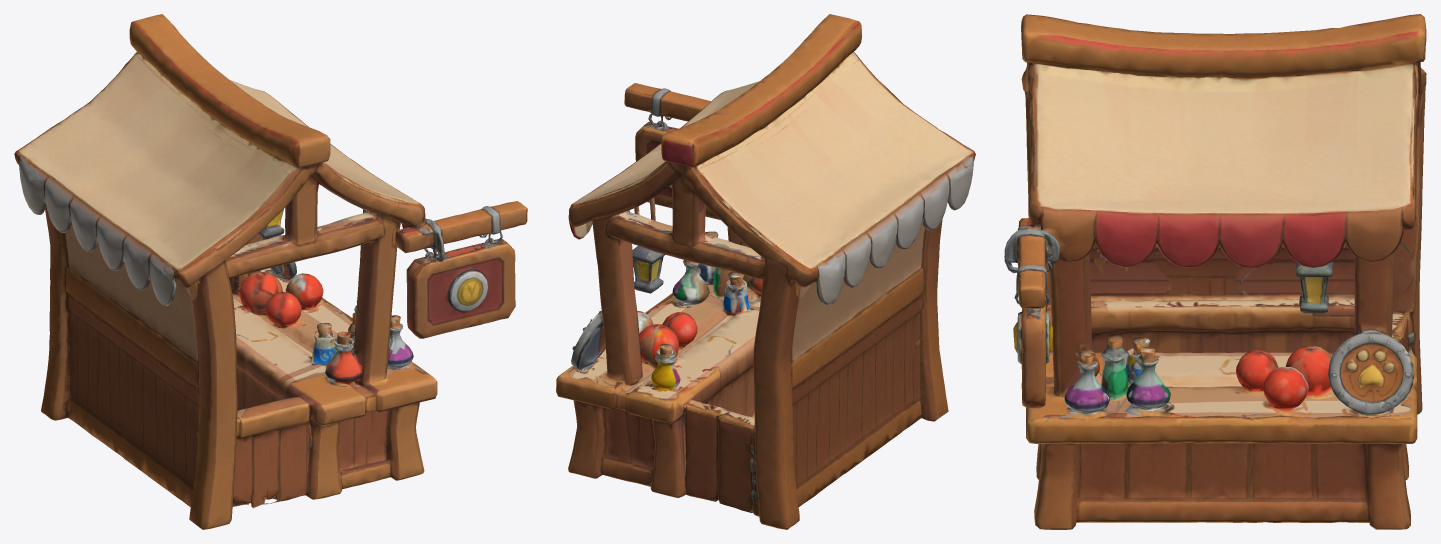
Rendered from Shop.obj.
The picture shows the model from 3 angles, left to right: view 1: azimuth 30°, elevation 25°; view 2: azimuth 150°, elevation 25°; view 3: azimuth 270°, elevation 25°; orthographic projection. The views are drawn at different scales.
Parts seen in each view (by area): view 1: surface_8; view 2: surface_8; view 3: surface_8.
Boxes of the visible parts, bbox=[...] form: surface_8: bbox=[14, 14, 527, 529]; surface_8: bbox=[556, 14, 975, 529]; surface_8: bbox=[1004, 14, 1426, 529].
Bounding box in the file's own units: 0.9999 × 0.9996 × 0.8672.
Materials: 1 (1 with a texture image).
